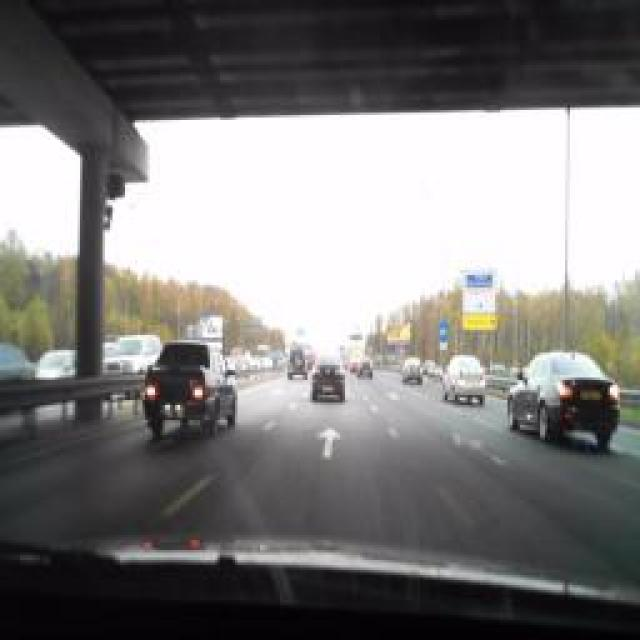sign: (440, 322, 448, 342)
